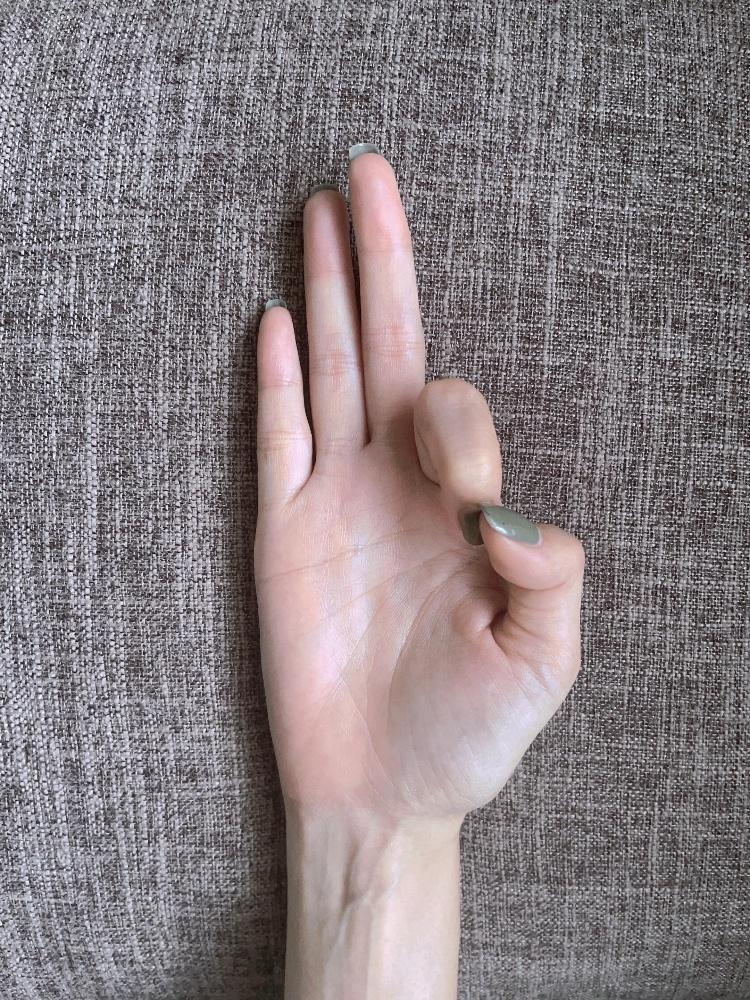f: (244, 139, 588, 843)
